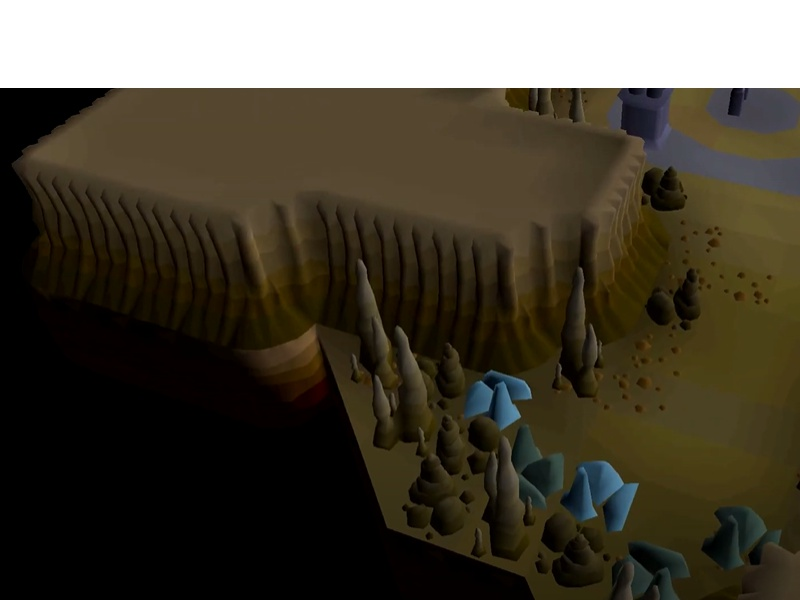adamant: (697, 504, 784, 573), (610, 537, 693, 600), (510, 422, 567, 513)
rune: (557, 457, 641, 534), (462, 368, 535, 431)
